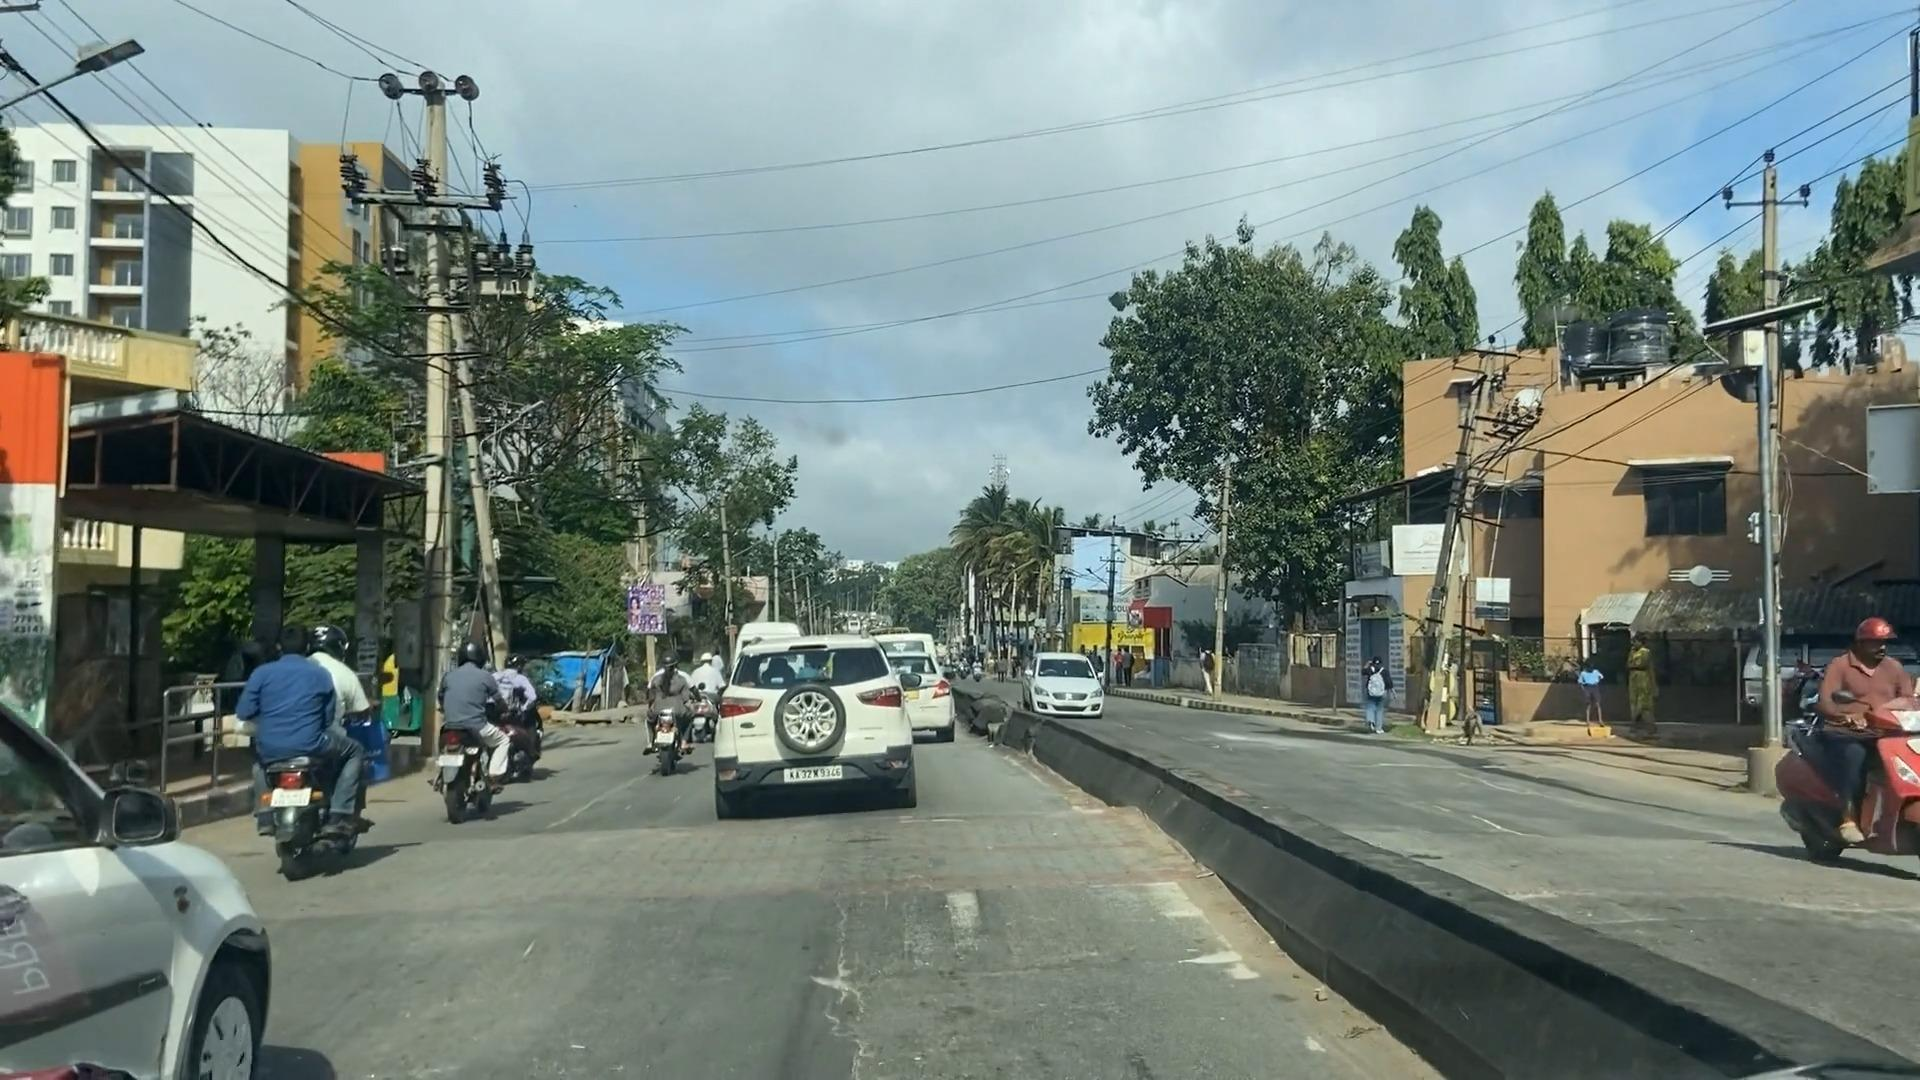LMV: (711, 649, 910, 800), (243, 626, 371, 860), (434, 636, 498, 827), (638, 662, 691, 781)
RoadDamages: (810, 885, 873, 1080), (541, 770, 638, 828)
SpeedBump: (316, 811, 1257, 963)
